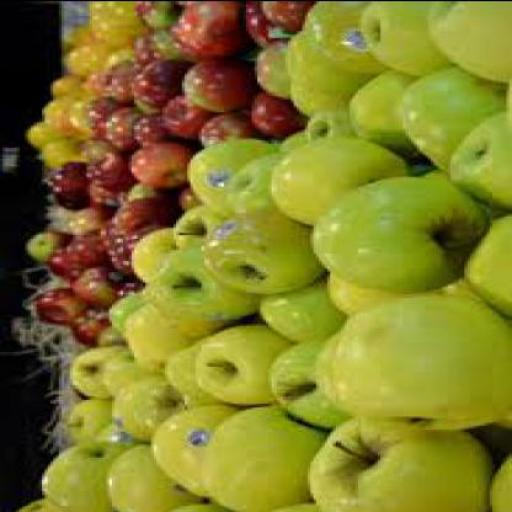biodegradable: (310, 294, 510, 426), (308, 172, 487, 290), (302, 416, 498, 510), (202, 404, 320, 510), (266, 135, 408, 223), (392, 64, 506, 170), (201, 208, 322, 289), (280, 28, 380, 114), (145, 402, 238, 494), (196, 321, 288, 404), (354, 1, 456, 75), (296, 104, 420, 163), (151, 246, 255, 316), (36, 441, 140, 510), (324, 269, 476, 316), (347, 68, 428, 154), (265, 334, 342, 424), (422, 2, 508, 82), (120, 300, 218, 370), (103, 441, 202, 510), (299, 2, 390, 72), (445, 110, 509, 208), (255, 268, 338, 340), (186, 135, 272, 202), (459, 212, 510, 318), (109, 373, 181, 436), (171, 1, 243, 57), (179, 56, 249, 108), (162, 338, 216, 402), (70, 345, 128, 395), (243, 88, 300, 136), (174, 202, 232, 247), (129, 224, 176, 278), (112, 198, 171, 238), (62, 396, 112, 441), (252, 35, 288, 97), (126, 140, 179, 182), (40, 158, 86, 206), (106, 354, 162, 393), (106, 288, 157, 330), (126, 60, 177, 102), (157, 95, 207, 135), (84, 145, 131, 187), (75, 268, 132, 302), (111, 198, 168, 230), (81, 0, 134, 32), (78, 94, 120, 134), (196, 111, 248, 143), (34, 284, 80, 319), (100, 102, 135, 147), (64, 226, 103, 265), (34, 134, 80, 166), (487, 445, 509, 510), (67, 202, 111, 234), (67, 306, 107, 341), (23, 230, 67, 260), (260, 1, 305, 30), (242, 2, 272, 44), (101, 55, 132, 95), (128, 115, 166, 147), (145, 26, 182, 58), (44, 245, 79, 278), (58, 40, 93, 72), (132, 1, 174, 26), (86, 180, 118, 212), (90, 422, 136, 444), (104, 232, 131, 269), (44, 70, 82, 95), (19, 121, 56, 145), (59, 94, 81, 134), (123, 182, 167, 200), (37, 97, 64, 126), (101, 44, 132, 69), (160, 499, 226, 510), (81, 134, 112, 156), (14, 497, 65, 510), (101, 26, 128, 50), (174, 182, 198, 206), (78, 61, 96, 93), (62, 22, 84, 48), (87, 35, 106, 65), (263, 499, 313, 510), (274, 128, 302, 145), (131, 30, 148, 57), (99, 328, 123, 344), (423, 167, 447, 180)
